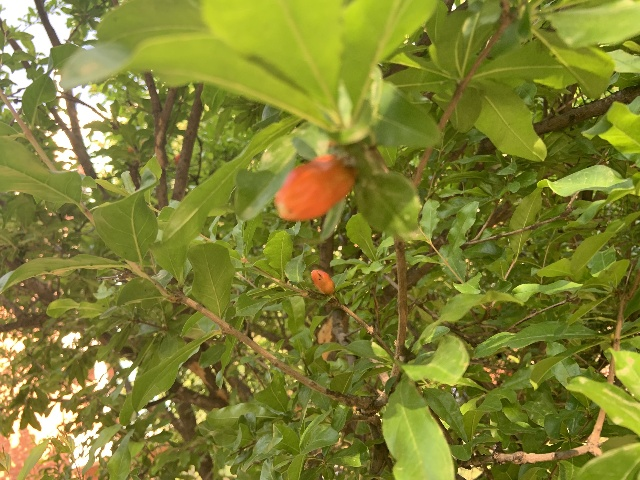bud: (274, 155, 355, 221), (310, 269, 334, 294)
